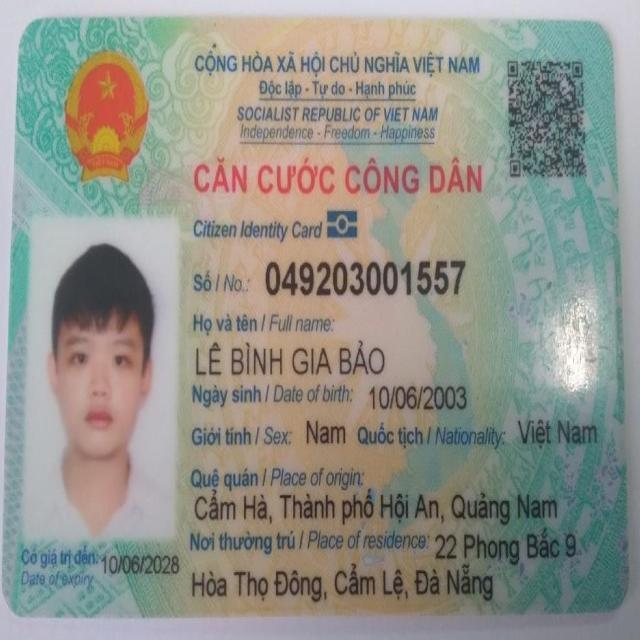current_place: (184, 560, 499, 601), (433, 526, 576, 565)
dob: (365, 378, 470, 417)
expire_date: (99, 550, 181, 576)
gender: (303, 415, 348, 449)
id: (260, 255, 472, 298)
name: (187, 338, 392, 377)
nationality: (516, 414, 602, 451)
origin_place: (189, 490, 565, 523)
